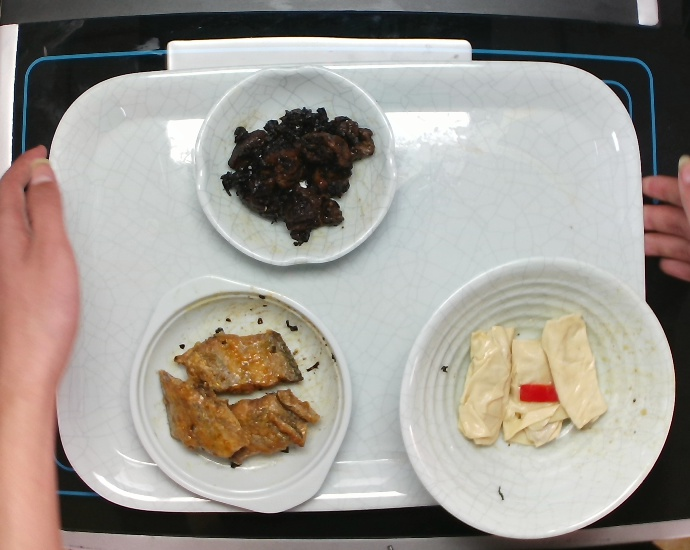JYsf-Ao_Yuan_Wan: (190, 59, 398, 268)
JYsf-Shuang_Er_Pan: (127, 273, 354, 515)
JYsf-Xiao_Tang_Wan: (391, 250, 681, 548)
